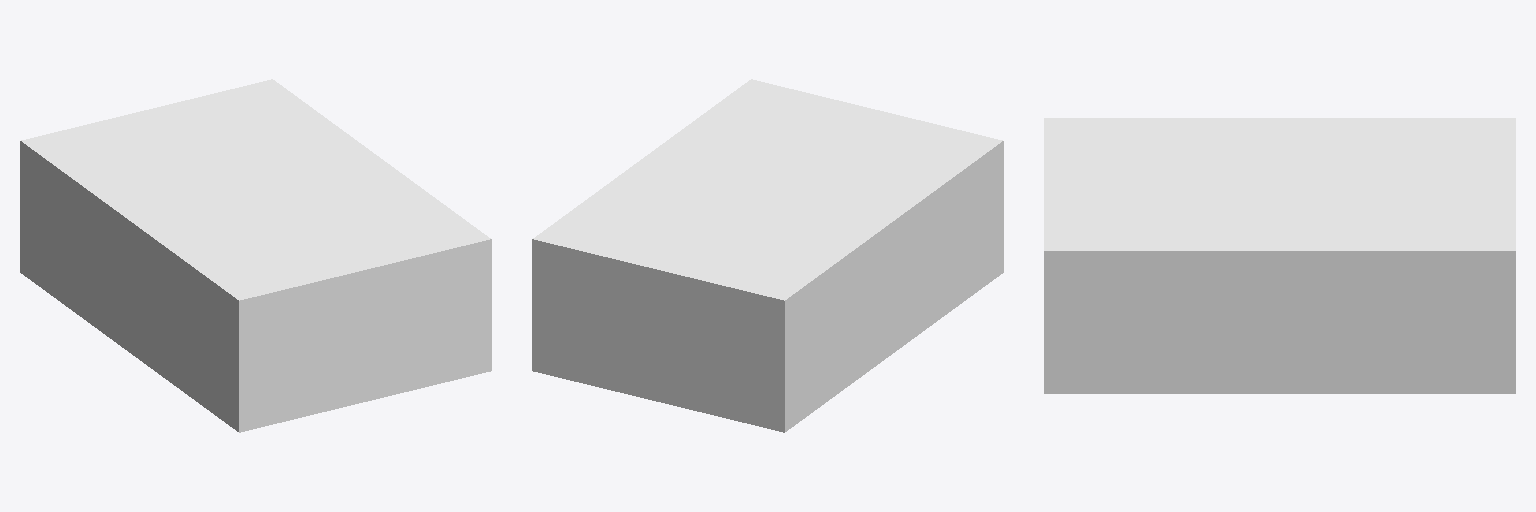
robot.urdf — tf_simulation3:
<robot name="tf_simulation3" xmlns:xacro="http://ros.org/wiki/xacro">
    <material name="black">
        <color rgba="0 0 0 0.7"/>
    </material>
    <material name="white">
        <color rgba="1 1 1 0.7"/>
    </material>

    <link name="base_link"/>
    <joint name="base_to_body_joint" type="fixed">
        <parent link="base_link"/>
        <child link="body_link"/>
    </joint>
    <link name="body_link">
        <visual>
            <geometry>
                <box size="0.2 0.3 0.1"/>
            </geometry>
            <origin rpy="0 0 0" xyz="0 0 0"/>
            <material name="white" />
        </visual>
        <inertial>
            <!-- <origin rpy="0 0 0" xyz="0 0 0"/> -->
            <mass value="0.1"/>
            <inertia ixx="0.001" ixy="0" ixz="0" iyy="0.001" iyz="0" izz="0.001"/>
        </inertial>
        <collision>
            <!-- <origin rpy="0 0 0" xyz="0 0 0"/> -->
            <geometry>
                <cylinder length="0.05" radius="0.05"/>
            </geometry>
        </collision>
    </link>
    <gazebo reference="body_link">
        <material>Gazebo/white</material>
    </gazebo>

    <joint name="body_to_ball_joint" type="fixed">
        <parent link="body_link"/>
        <child link="ball_link"/>
    </joint>
    <link name="ball_link">
        <visual>
            <origin rpy="0 0 0" xyz="0 0 0"/>
            <geometry>
                <sphere radius="0.025"/>
            </geometry>
            <material name="white" />
        </visual>
        <collision>
            <!-- <origin rpy="0 0 0" xyz="0 0 0"/> -->
            <geometry>
                <sphere radius="0.025"/>
            </geometry>
        </collision>
    </link>
    <gazebo reference="ball_link">
        <material>Gazebo/white</material>
        <mu1 value="0.5"/>
        <mu2 value="0.5"/>
    </gazebo>

    <joint name="base_to_wheel_R" type="fixed">
        <parent link="body_link"/>
        <child link="wheel_R"/>
    </joint>
    <link name="wheel_R">
        <visual>
            <geometry>
                <cylinder length="0.05" radius="0.05"/>
            </geometry>
            <origin rpy="0 0 0" xyz="0 0 0"/>
            <material name="black"/>
        </visual>
        <inertial>
            <!-- <origin rpy="0 0 0" xyz="0 0 0"/> -->
            <mass value="0.1"/>
            <inertia ixx="0.0001" ixy="0" ixz="0" iyy="0.0001" iyz="0" izz="0.0001"/>
        </inertial>
        <collision>
            <!-- <origin rpy="0 0 0" xyz="0 0 0"/> -->
            <geometry>
                <cylinder length="0.048" radius="0.05"/>
            </geometry>
        </collision>
    </link>
    <gazebo reference="wheel_R">
        <material>Gazebo/black</material>
        <mu1 value="1.0"/>
        <mu2 value="1.0"/>
        <kp value="50000"/>
        <kd value="10"/>
    </gazebo>

    <joint name="base_to_wheel_L" type="fixed">
        <parent link="body_link"/>
        <child link="wheel_L"/>
    </joint>
    <link name="wheel_L">
        <visual>
            <geometry>
                <cylinder length="0.05" radius="0.05"/>
            </geometry>
            <origin rpy="0 0 0" xyz="0 0 0"/>
            <material name="black"/>
        </visual>
        <inertial>
            <!-- <origin rpy="0 0 0" xyz="0 0 0"/> -->
            <mass value="0.1"/>
            <inertia ixx="0.0001" ixy="0" ixz="0" iyy="0.0001" iyz="0" izz="0.0001"/>
        </inertial>
        <collision>
            <!-- <origin rpy="0 0 0" xyz="0 0 0"/> -->
            <geometry>
                <cylinder length="0.048" radius="0.05"/>
            </geometry>
        </collision>
    </link>
    <gazebo reference="wheel_L">
        <material>Gazebo/black</material>
        <mu1 value="1.0"/>
        <mu2 value="1.0"/>
        <kp value="50000"/>
        <kd value="10"/>
    </gazebo>

    <joint name="laser_joint" type="fixed">
        <parent link="body_link"/>
        <child link="laser_link"/>
    </joint>
    <link name="laser_link">
        <visual>
            <origin rpy="0 0 0" xyz="0 0 0"/>
            <geometry>
                <cylinder length="0.04" radius="0.02"/>
            </geometry>
            <material name="rad">
                <color rgba="1 0 0 0.7"/>
            </material>
        </visual>
        <collision>
            <!-- <origin rpy="0 0 0" xyz="0 0 0"/> -->
            <geometry>
                <cylinder length="0.04" radius="0.02"/>
            </geometry>
        </collision>
    </link>
    <gazebo reference="laser_link">
        <material>Gazebo/Red</material>
        <sensor name="laser" type="ray">
        <pose>0 0 0 0 0 0</pose>
        <visualize>true</visualize>
        <update_rate>10</update_rate>
        <ray>
            <scan>
            <horizontal>
                <samples>400</samples>
                <resolution>1</resolution>
                <min_angle>-1.0471975512</min_angle>
                <max_angle>1.0471975512</max_angle>
            </horizontal>
            </scan>
            <range>
            <min>0.10</min>
            <max>20.0</max>
            <resolution>0.01</resolution>
            </range>
            <noise>
            <type>gaussian</type>
            <mean>0.0</mean>
            <stddev>0.01</stddev>
            </noise>
        </ray>
        <plugin filename="libgazebo_ros_laser.so" name="gazebo_ros_lidar_controller">
            <topicName>/laser_link/scan</topicName>
            <frameName>laser_link</frameName>
        </plugin>
        </sensor>
    </gazebo>

    <gazebo>
        <plugin filename="libgazebo_ros_control.so" name="gazebo_ros_control">
        <robotNamespace>/robot3_simulation</robotNamespace>
        </plugin>
    </gazebo>
</robot>

--- Facts derived from the render (not from the file) ---
Views: 3 orthographic renders of the robot side by side, from view 1: azimuth 30°, elevation 25°; view 2: azimuth 150°, elevation 25°; view 3: azimuth 270°, elevation 25°.
Model tf_simulation3 with 6 links and 5 joints (5 fixed), rooted at base_link, posed every joint at zero.
Visible links, largest first — view 1: body_link; view 2: body_link; view 3: body_link.
Boxes of the visible links, x1,y1,x2,y2 form: body_link: [20, 79, 491, 432]; body_link: [532, 79, 1003, 432]; body_link: [1044, 118, 1515, 393].
Bounding box of the posed robot: 0.2 × 0.3 × 0.1 m (x, y, z).
Geometry: primitives only (box / cylinder / sphere), no mesh files.
